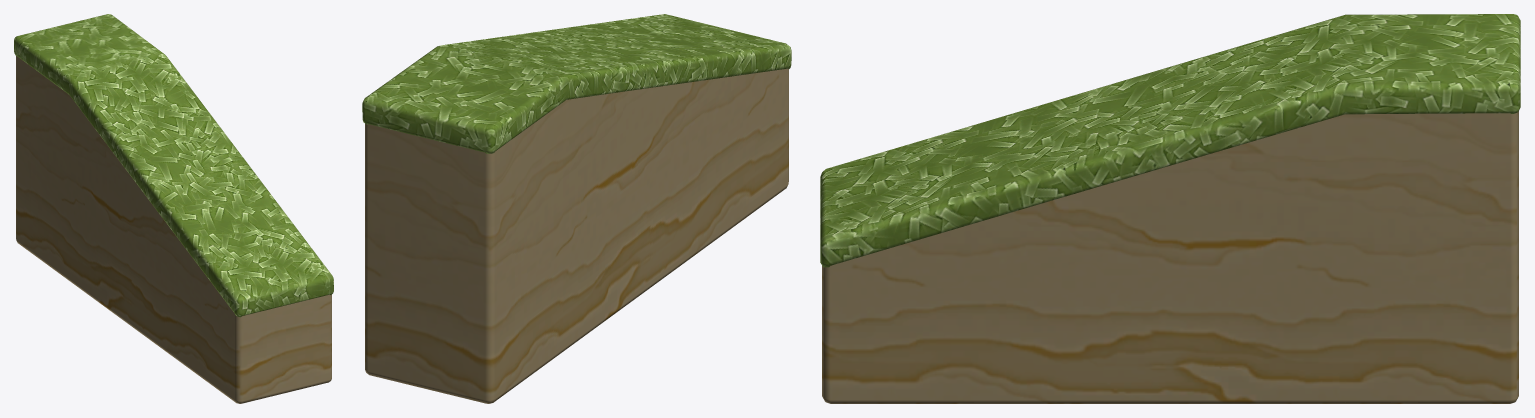
File: SM_Platform_1m_04_A_Ramp.glb
The picture shows the model from 3 angles, left to right: view 1: azimuth 30°, elevation 25°; view 2: azimuth 150°, elevation 25°; view 3: azimuth 270°, elevation 25°; orthographic projection. The views are drawn at different scales.
Visible parts, largest first — view 1: SM_Platform_1m_04_A_Ramp; view 2: SM_Platform_1m_04_A_Ramp; view 3: SM_Platform_1m_04_A_Ramp.
Part boxes in pixels (<box>): SM_Platform_1m_04_A_Ramp: <box>14,14,333,403</box>; SM_Platform_1m_04_A_Ramp: <box>362,14,791,403</box>; SM_Platform_1m_04_A_Ramp: <box>820,14,1520,403</box>.
Size of the model in its own units: 1.02 by 2.05 by 4.03.
Materials: 2 (2 with a texture image).
